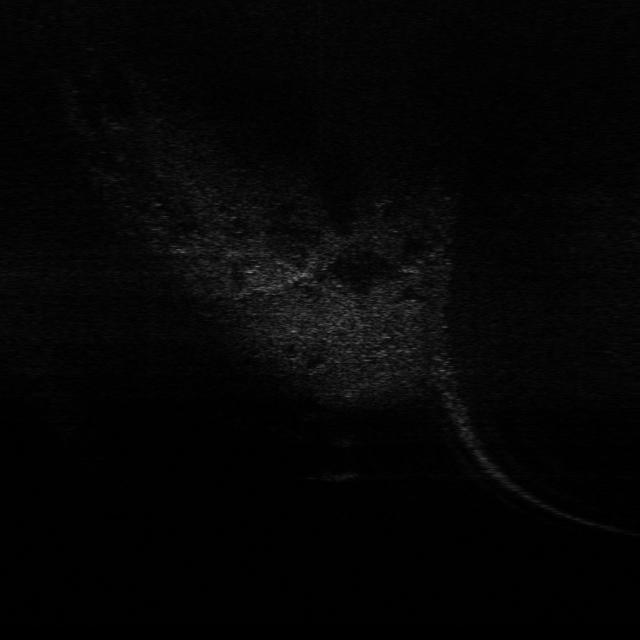cube: (314, 467, 360, 482)
